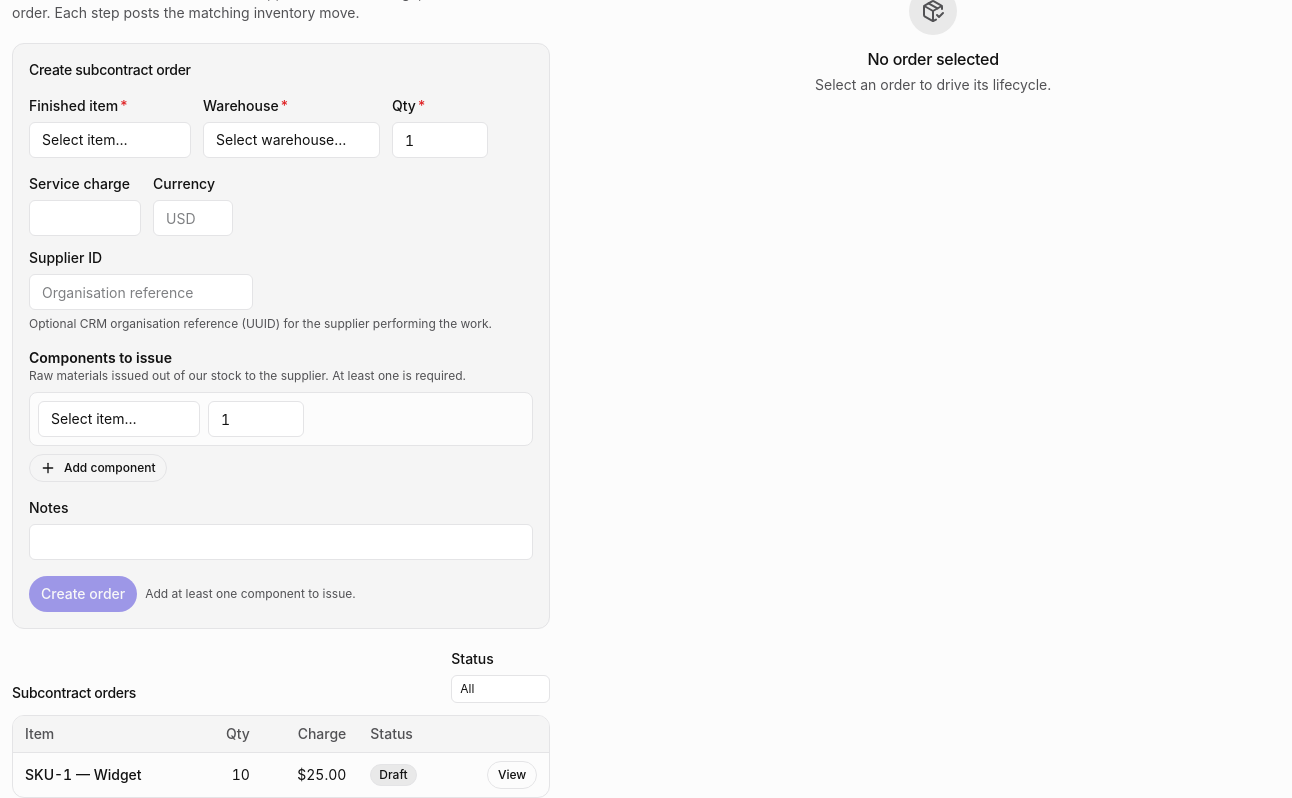
SubcontractingPage › offers receive on an issued order and close on a received one
(page scrolled)
Click the button with aria-label "View SKU-1" at (512, 774), box [487, 760, 537, 788]
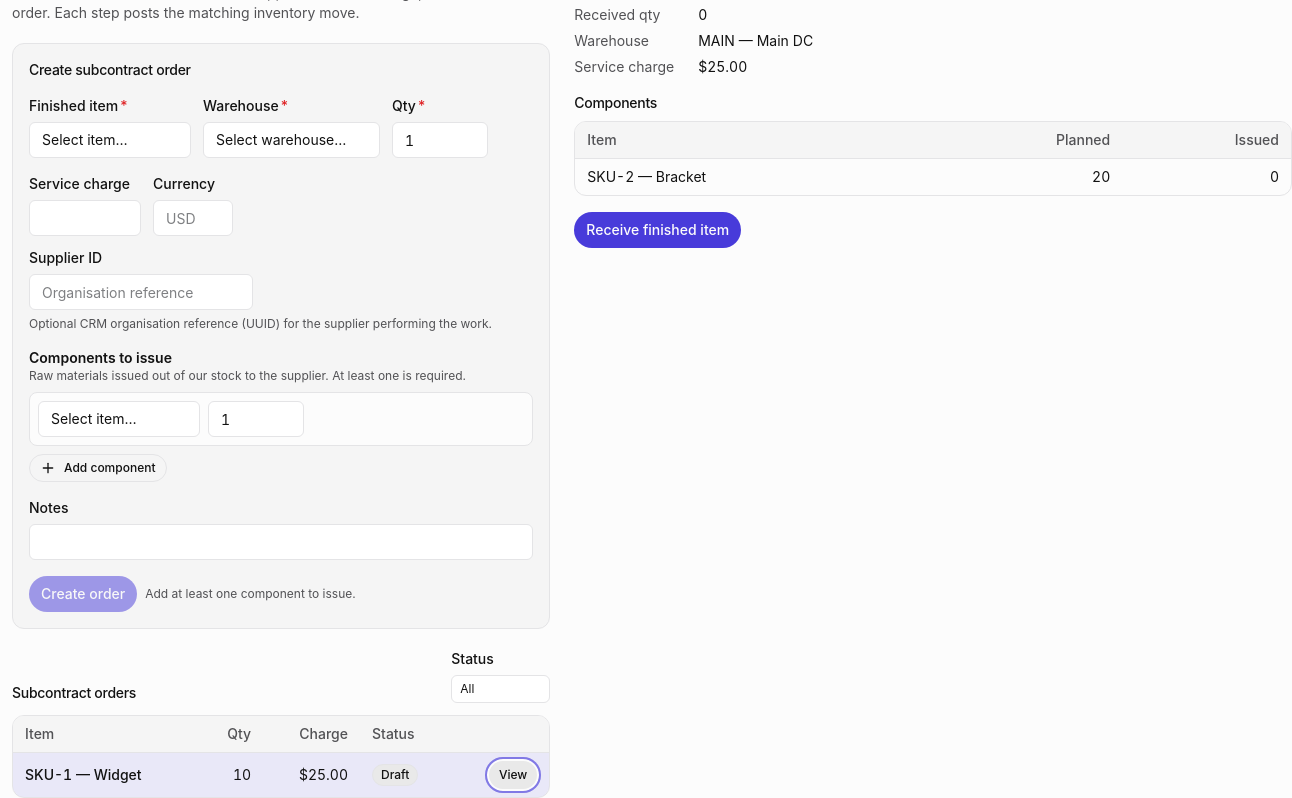
Expected: the button "Receive finished item" is shown, [574, 212, 741, 248]
